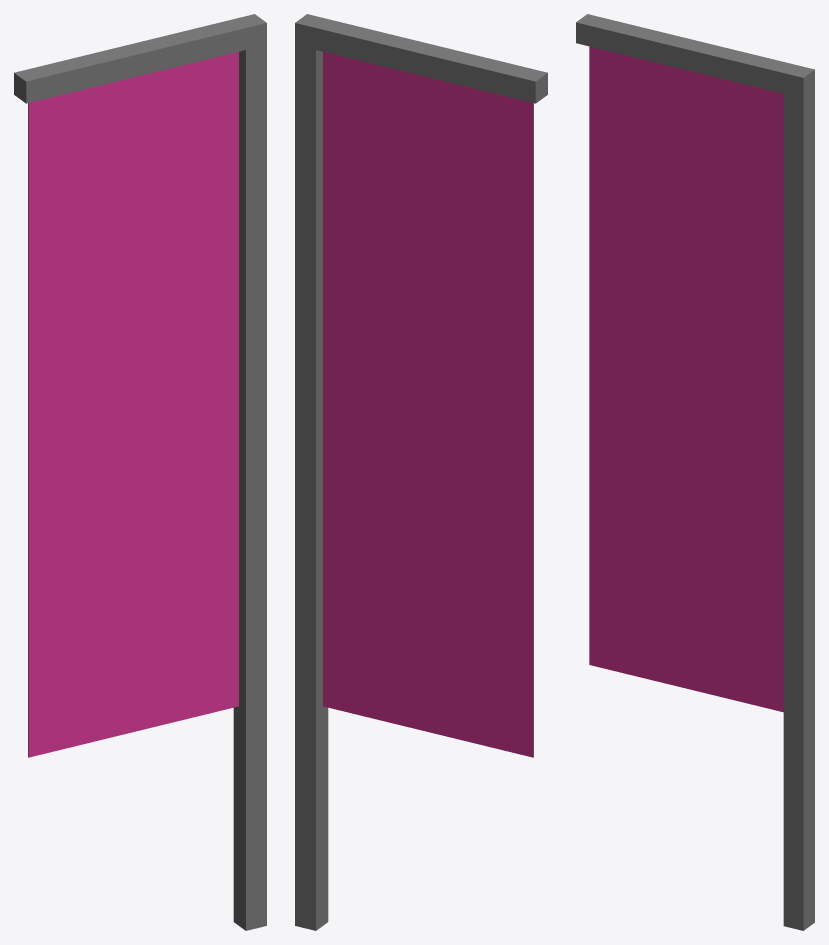
File: AdvertisementUp.dae
3 views of the same model, side by side, from view 1: azimuth 30°, elevation 25°; view 2: azimuth 150°, elevation 25°; view 3: azimuth 330°, elevation 25° (orthographic). The views are drawn at different scales.
Visible parts, largest first — view 1: Cube; view 2: Cube; view 3: Cube.
Boxes of the visible parts, box(x1,y1,x2,y2) form: Cube: box(14, 14, 266, 930); Cube: box(295, 14, 547, 930); Cube: box(576, 14, 814, 930).
Size of the model in its own units: 2.29 by 0.2 by 8.2.
